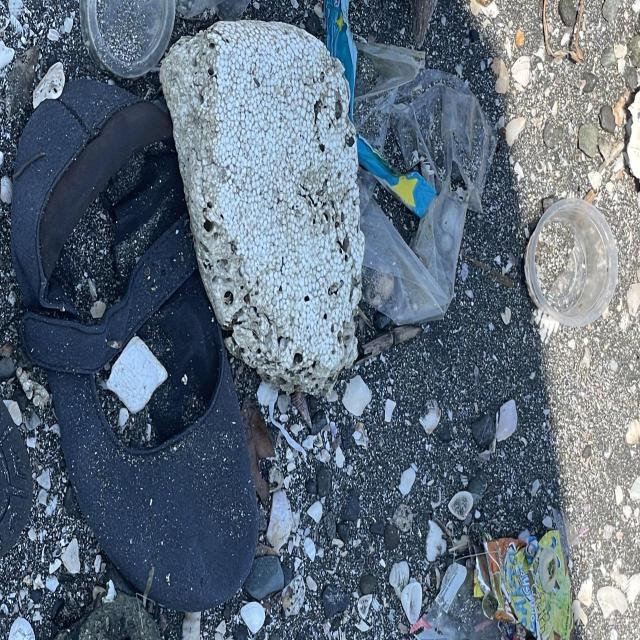plastic_waste: (525, 198, 621, 329), (482, 528, 576, 640)
rubber_waste: (9, 78, 263, 618)
styrofoam_waste: (159, 17, 368, 398)
